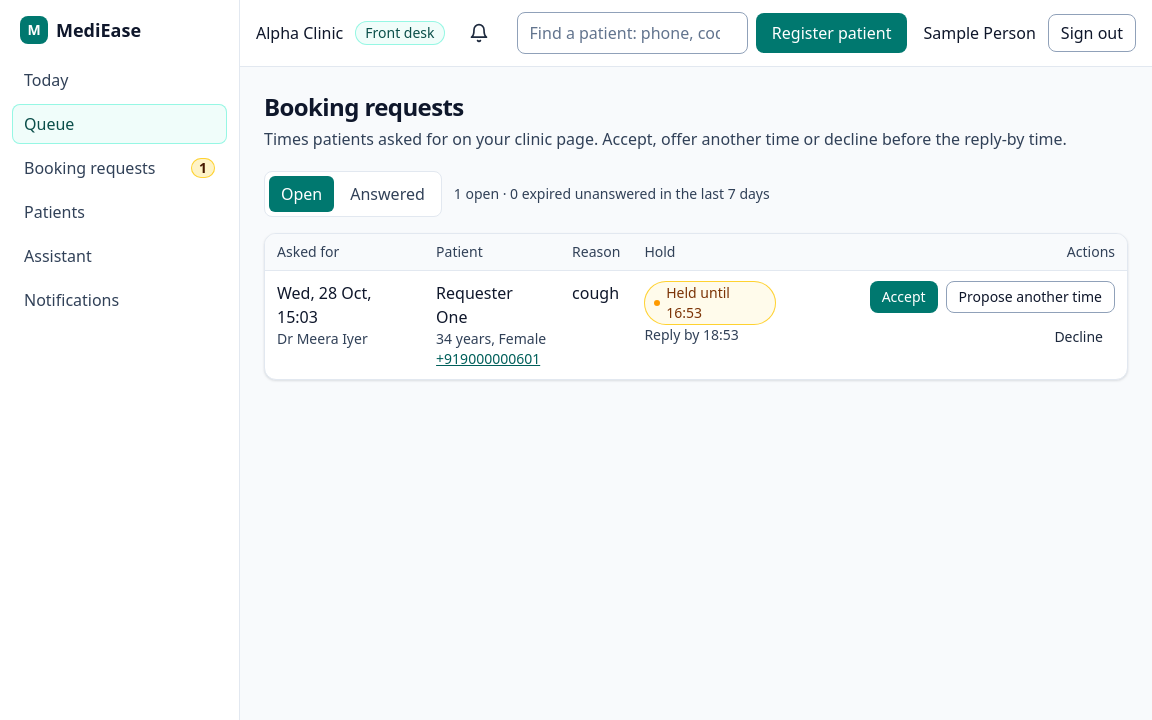
Test case: answering requests (M6b-P5, R34, R36, R39) › accept: the phone's candidates show their no-shows; a new record is prefilled and sent
This screenshot has width=1152, height=720.
Click the button with aria-label "Accept Requester One's request". click: [904, 297]
box: x1=870 y1=281 x2=938 y2=313
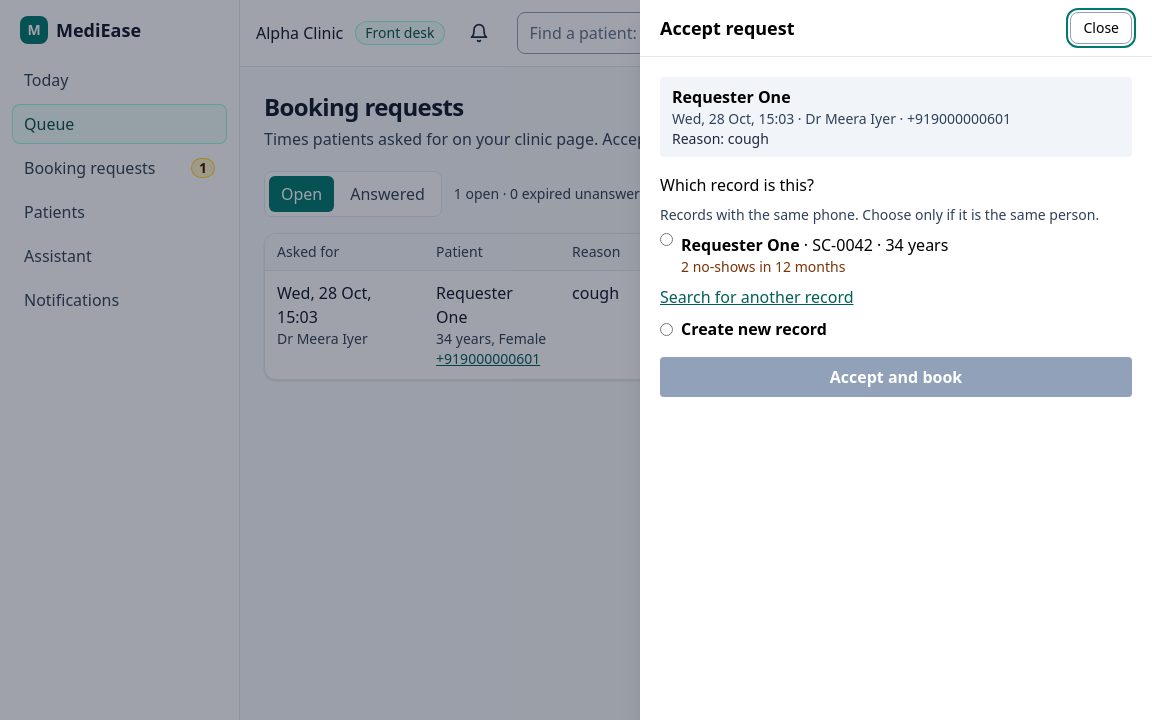
expect the text "2 no-shows in 12 months" is shown: met, box x1=681 y1=257 x2=845 y2=276
expect the button "Accept and book" is disabled: met, box x1=660 y1=357 x2=1132 y2=397
Click the radio button labelled "Create new record". click: [666, 329]
box: x1=660 y1=322 x2=673 y2=336
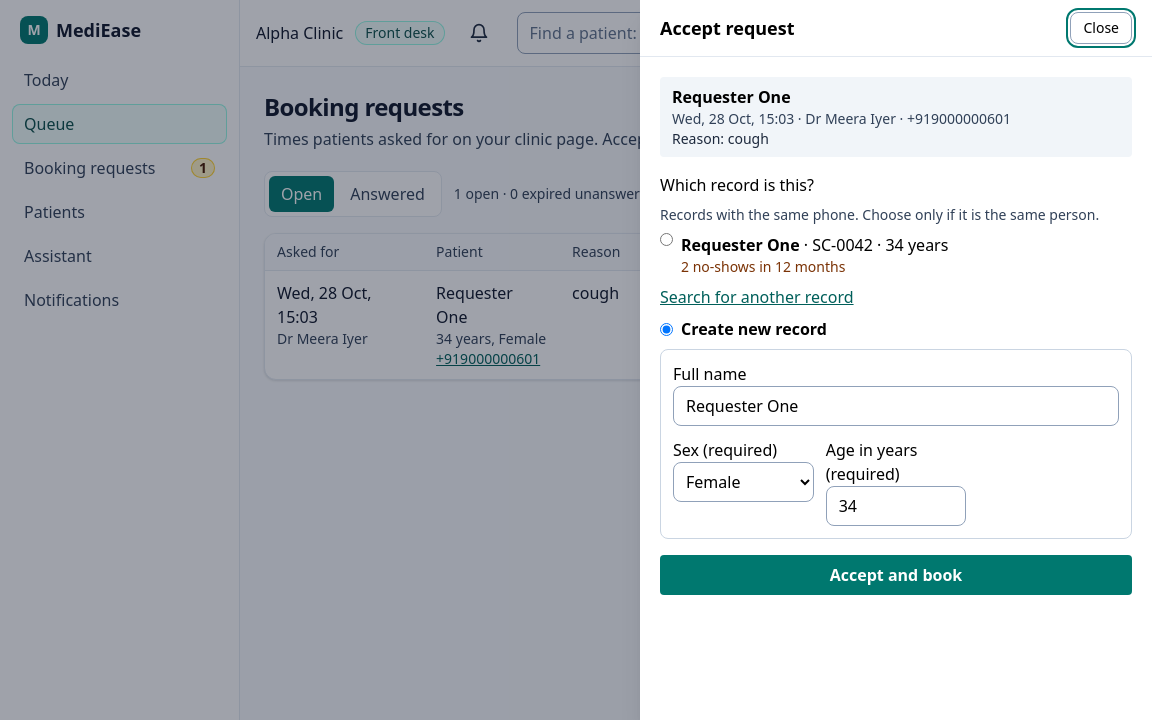
expect the field labelled "Full name" holds "Requester One": met, box x1=673 y1=386 x2=1119 y2=426
expect the dropdown labelled "Sex (required)" shows "Female": met, box x1=673 y1=462 x2=814 y2=502
Click the button "Accept and book". click: [896, 575]
box: x1=660 y1=555 x2=1132 y2=595
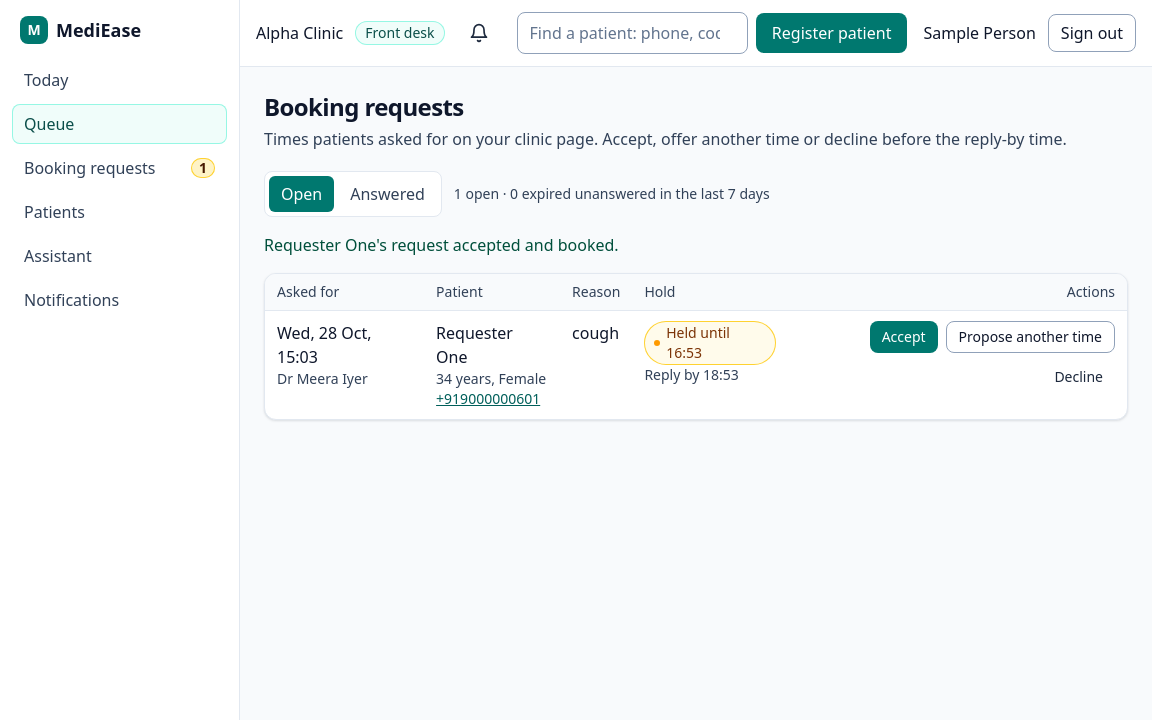
expect the text "Requester One's request accepted and booked." is shown: met, box x1=264 y1=234 x2=619 y2=256
